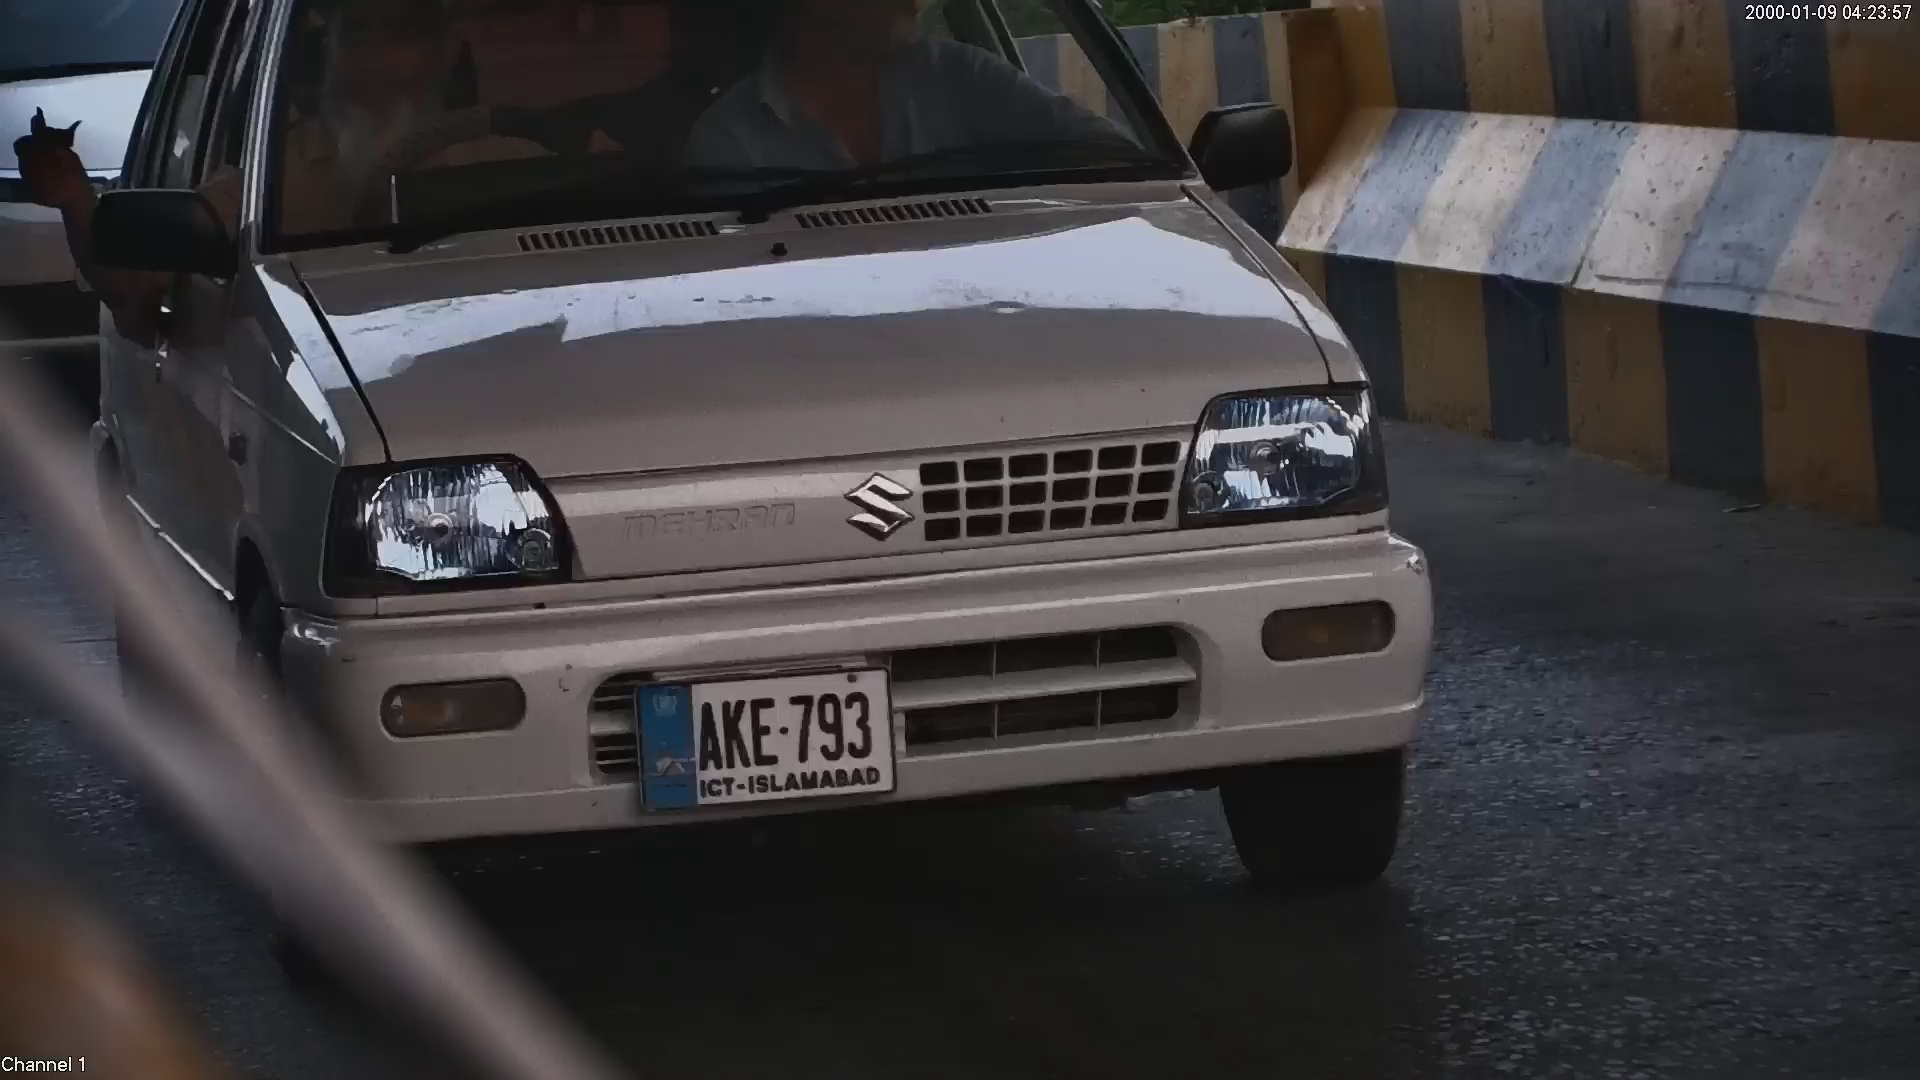Number_Plate: (632, 664, 902, 809)
Undefined: (1189, 381, 1373, 523), (350, 473, 552, 581), (369, 666, 530, 740), (1247, 590, 1406, 659), (606, 490, 804, 542), (841, 470, 917, 542)
